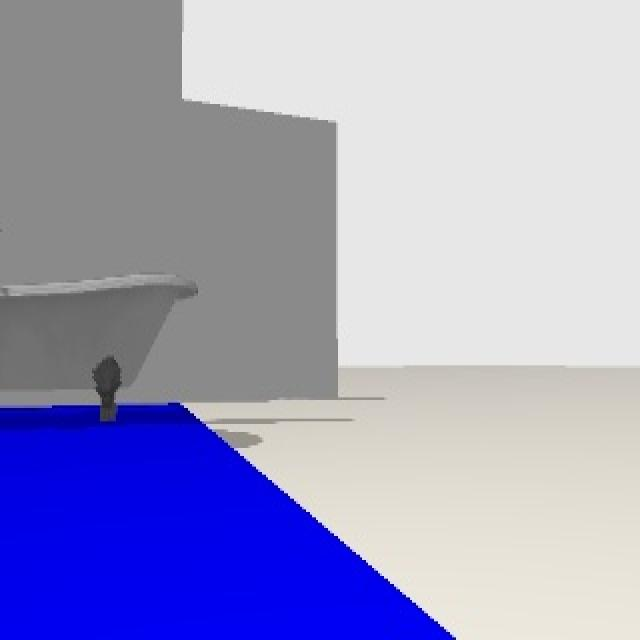bathtub: (0, 275, 200, 424)
